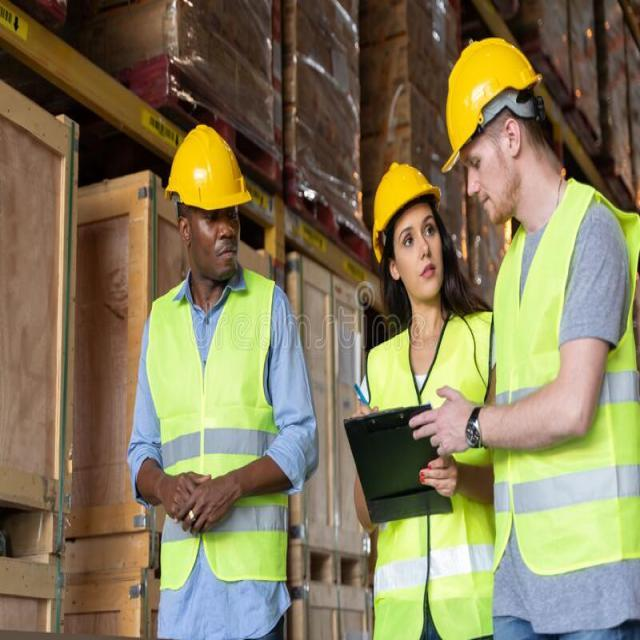reflective_jacket: (492, 187, 637, 579), (139, 270, 293, 598), (359, 301, 498, 638)
safety_helmet: (440, 34, 545, 156), (164, 120, 253, 216), (369, 156, 441, 242)
